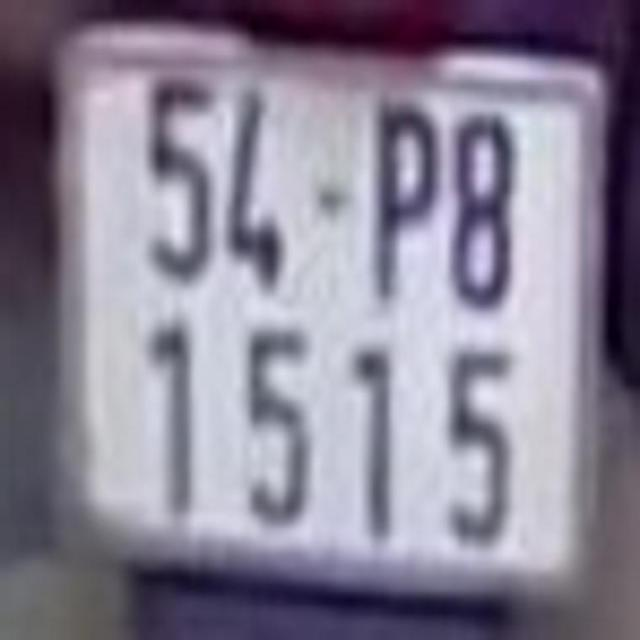1: (143, 319, 197, 520), (354, 345, 401, 537)
4: (229, 92, 283, 290)
5: (146, 82, 217, 281), (444, 342, 512, 544), (248, 324, 308, 527)
8: (452, 110, 511, 312)
P: (371, 100, 439, 303)
